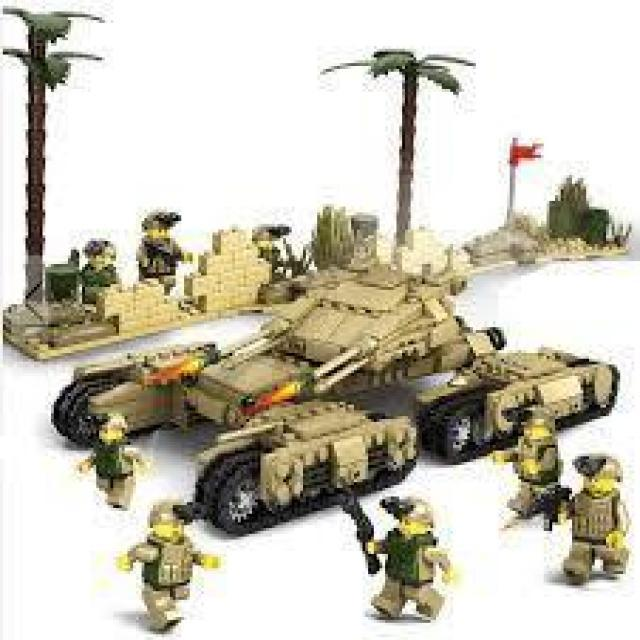MIL_MBT: (81, 273, 613, 522)
